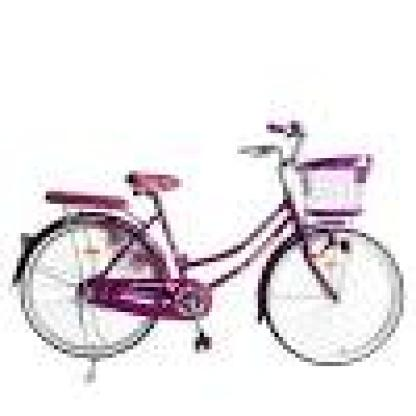Bike: (19, 119, 409, 387)
